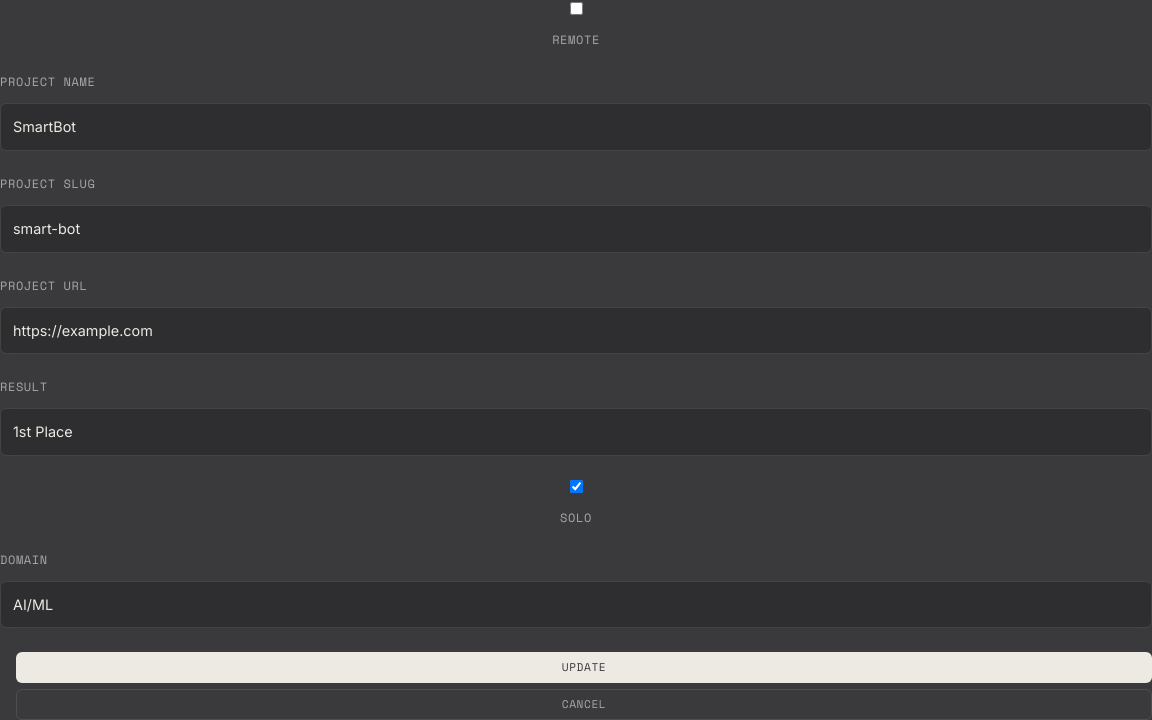
HackathonEditor › shows error state on save failure
(page scrolled)
Click the button "UPDATE" at coordinates (584, 668), box x1=16 y1=652 x2=1151 y2=683
(page scrolled)
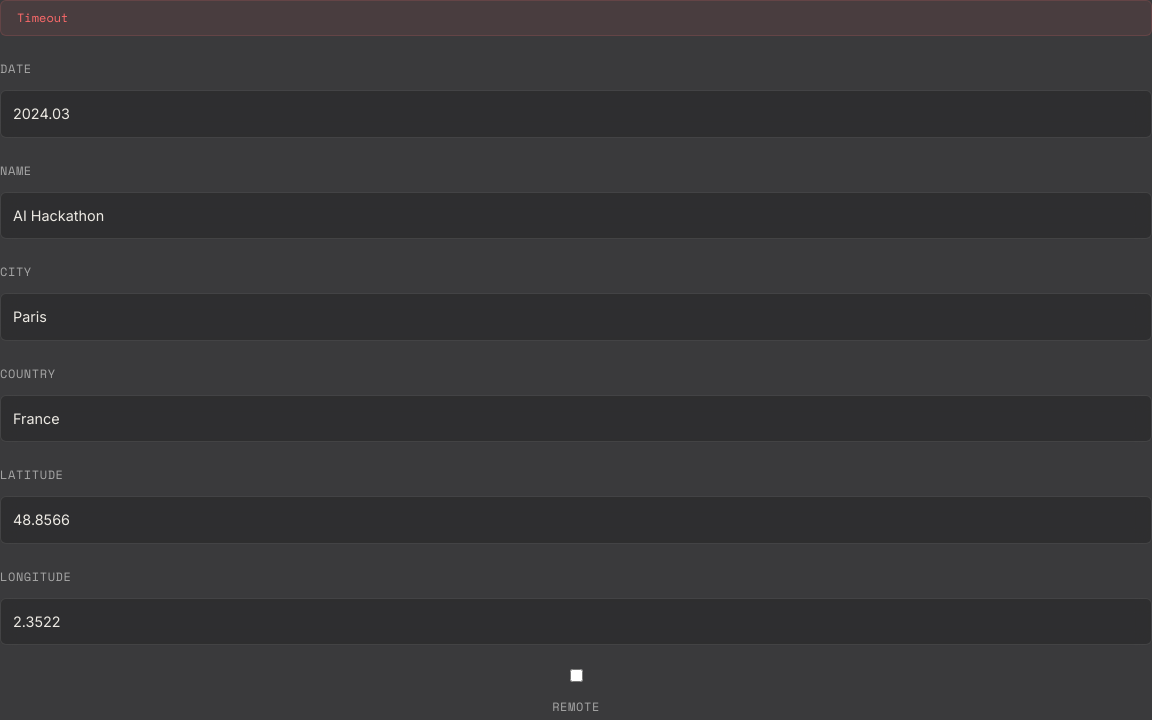
Expected: the text "Timeout" is shown, x1=0 y1=0 x2=1151 y2=36
